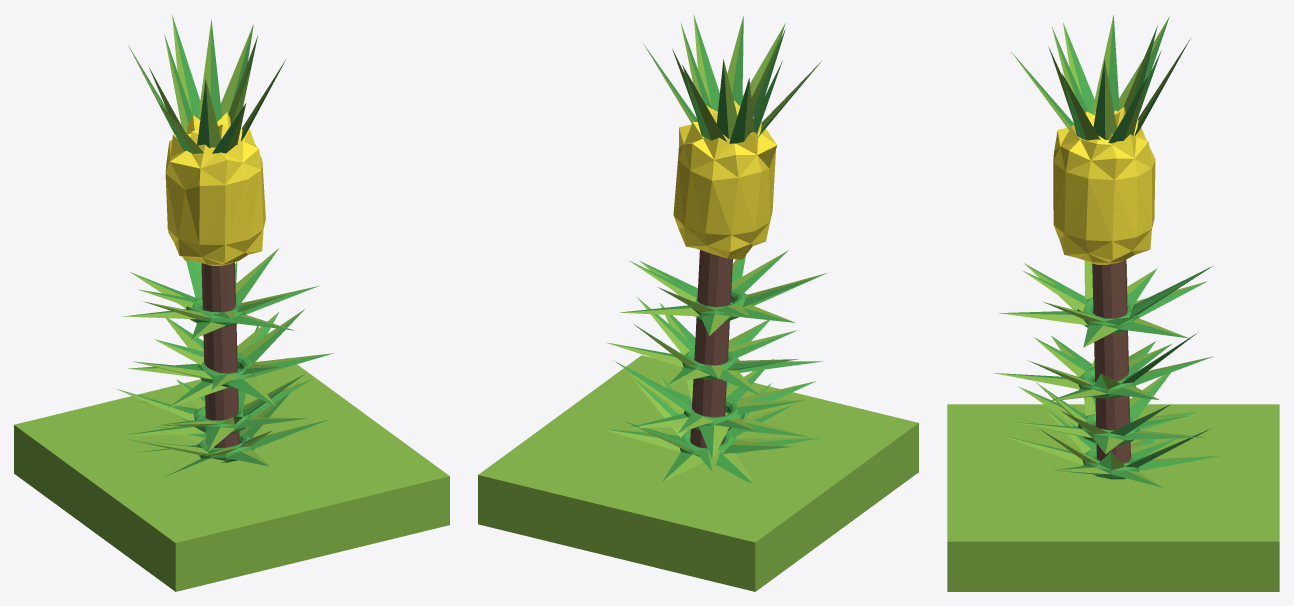
3 renders of one model, left to right at view 1: azimuth 30°, elevation 25°; view 2: azimuth 150°, elevation 25°; view 3: azimuth 270°, elevation 25°, orthographic. The views are drawn at different scales.
Visible parts, largest first — view 1: mesh_1537693769, mesh_1593197703, mesh_6488511, mesh_583635109, mesh_393528171, mesh_83725588, mesh_1130820057, mesh_1129114671; view 2: mesh_1537693769, mesh_1593197703, mesh_6488511, mesh_1130820057, mesh_583635109, mesh_83725588, mesh_1129114671, mesh_393528171; view 3: mesh_1537693769, mesh_1593197703, mesh_6488511, mesh_393528171, mesh_83725588, mesh_583635109, mesh_1130820057, mesh_1129114671.
Part boxes in pixels (<box>): mesh_1537693769: <box>14,358,449,591</box>; mesh_1593197703: <box>165,112,265,265</box>; mesh_6488511: <box>128,14,285,153</box>; mesh_583635109: <box>128,309,334,407</box>; mesh_393528171: <box>122,248,319,339</box>; mesh_83725588: <box>201,262,239,447</box>; mesh_1130820057: <box>116,326,311,451</box>; mesh_1129114671: <box>127,381,329,477</box>; mesh_1537693769: <box>478,355,918,591</box>; mesh_1593197703: <box>673,100,777,259</box>; mesh_6488511: <box>643,15,821,143</box>; mesh_1130820057: <box>613,352,816,459</box>; mesh_583635109: <box>605,297,823,396</box>; mesh_83725588: <box>690,250,732,448</box>; mesh_1129114671: <box>602,374,821,483</box>; mesh_393528171: <box>619,250,826,336</box>; mesh_1537693769: <box>947,404,1279,591</box>; mesh_1593197703: <box>1053,107,1155,264</box>; mesh_6488511: <box>1011,15,1190,143</box>; mesh_393528171: <box>998,261,1212,347</box>; mesh_83725588: <box>1092,260,1130,463</box>; mesh_583635109: <box>994,333,1213,401</box>; mesh_1130820057: <box>1012,372,1206,454</box>; mesh_1129114671: <box>1000,407,1219,487</box>.
Size of the model in its own units: 47 by 75.79 by 48.
